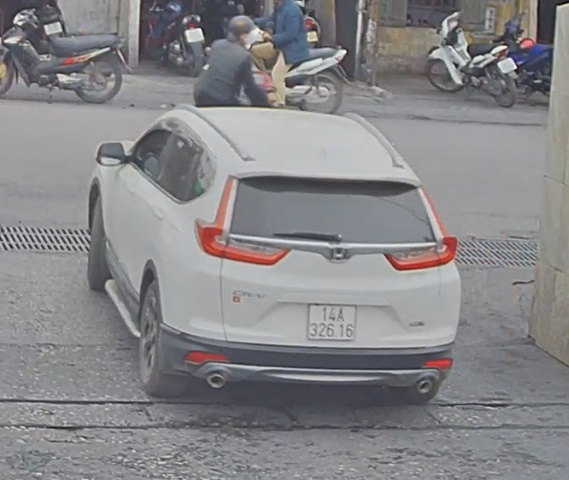vehicle plate: (306, 304, 355, 342)
